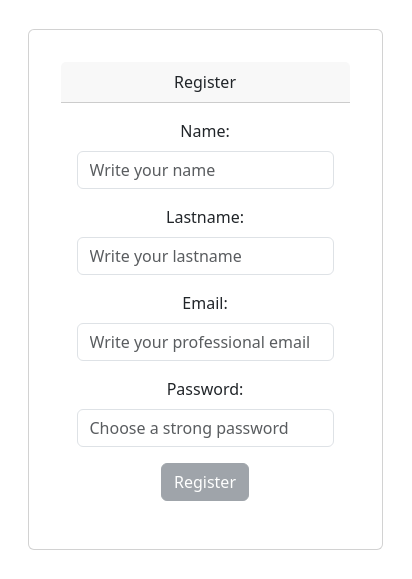
Test: Register Page › Error Messages › Name input errors for less than 3 chars.
In the field with test id "name-input": (206, 170) left=77, top=151, right=334, bottom=189, type "ek"
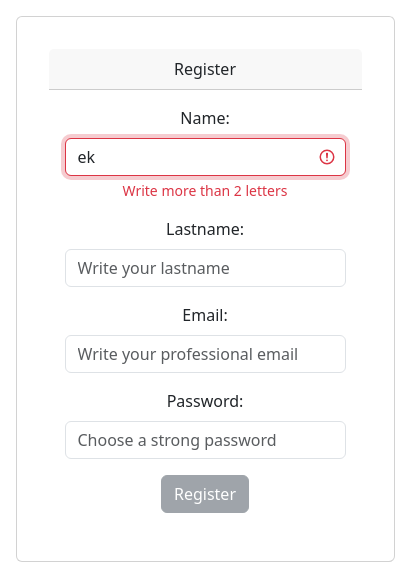
Expected: the text "Write more than 2 letters " is shown, left=123, top=181, right=288, bottom=200
